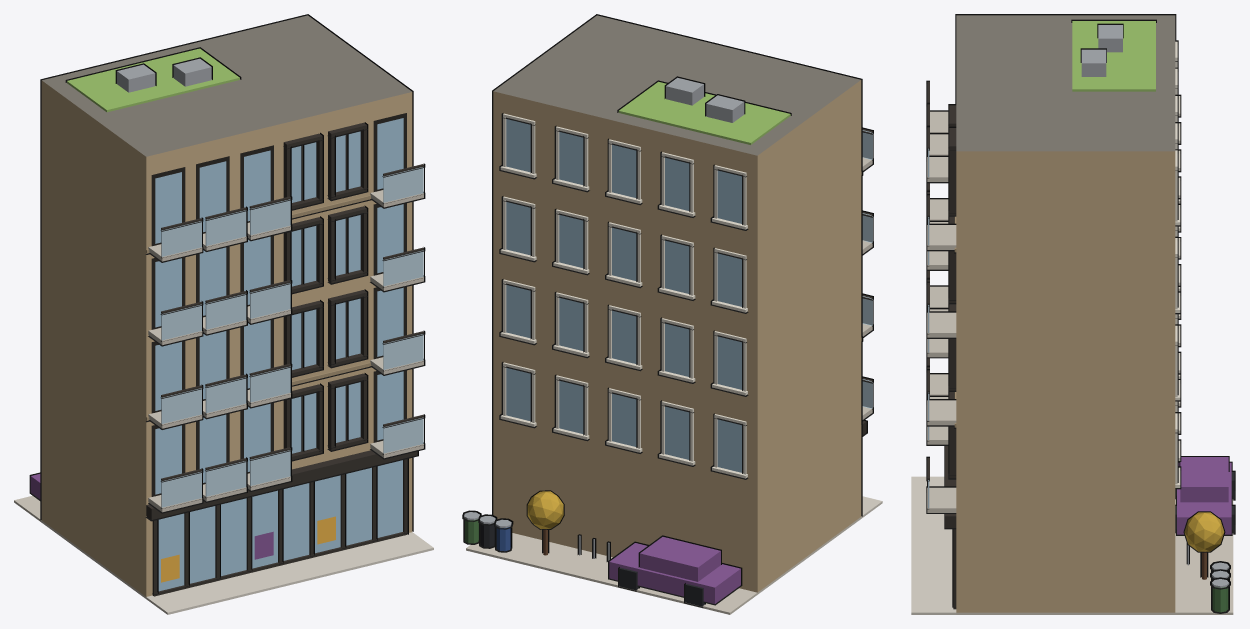
File: Blok_duz_5k_4.fbx
The picture shows the model from 3 angles, left to right: view 1: azimuth 30°, elevation 25°; view 2: azimuth 150°, elevation 25°; view 3: azimuth 270°, elevation 25°; orthographic projection. The views are drawn at different scales.
Parts seen in each view (by area): view 1: Blok_duz_5k_4; view 2: Blok_duz_5k_4; view 3: Blok_duz_5k_4.
Part boxes in pixels (x1,y1,x2,y2): Blok_duz_5k_4: [14, 14, 433, 614]; Blok_duz_5k_4: [462, 14, 882, 614]; Blok_duz_5k_4: [911, 14, 1235, 614].
Bounding box in the file's own units: 10.36 × 16.46 × 10.07.
